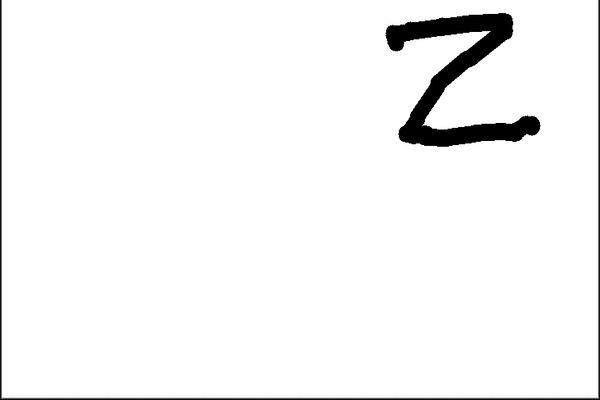Z: (379, 5, 547, 151)
